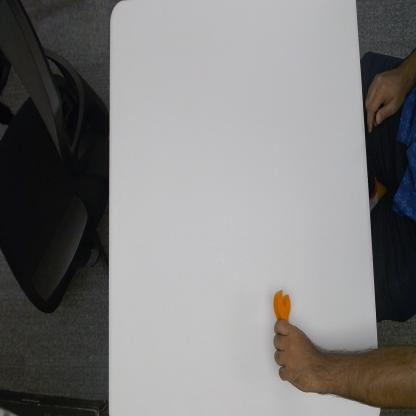Arm: (335, 336, 416, 416)
Hand: (270, 318, 331, 394)
Screwdriver: (272, 288, 292, 324)
